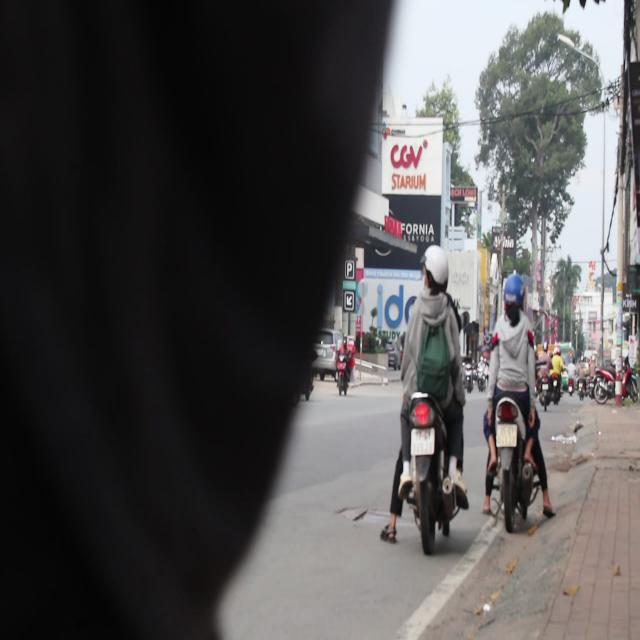car: (310, 328, 346, 368), (387, 338, 401, 374)
motorbike: (400, 388, 460, 552), (483, 390, 543, 534), (596, 364, 626, 406), (576, 359, 595, 400), (592, 368, 613, 404), (547, 373, 563, 407)
